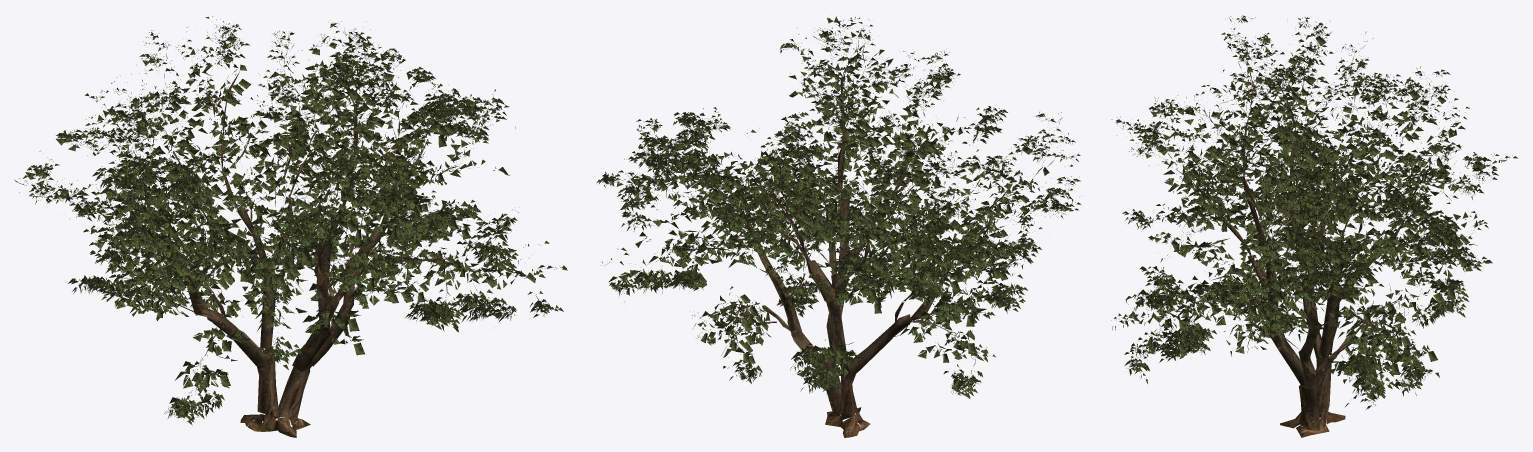
Rendered from jacaranda_tree.glb.
The picture shows the model from 3 angles, left to right: view 1: azimuth 30°, elevation 25°; view 2: azimuth 150°, elevation 25°; view 3: azimuth 270°, elevation 25°; orthographic projection. The views are drawn at different scales.
Visible parts, largest first — view 1: jacaranda_tree; view 2: jacaranda_tree; view 3: jacaranda_tree.
Boxes of the visible parts, box(x1,y1,x2,y2) form: jacaranda_tree: box(14, 16, 567, 437); jacaranda_tree: box(596, 16, 1081, 437); jacaranda_tree: box(1111, 15, 1518, 437).
Bounding box in the file's own units: 86.02 × 69.07 × 67.42.
Materials: 3 (3 with a texture image).
